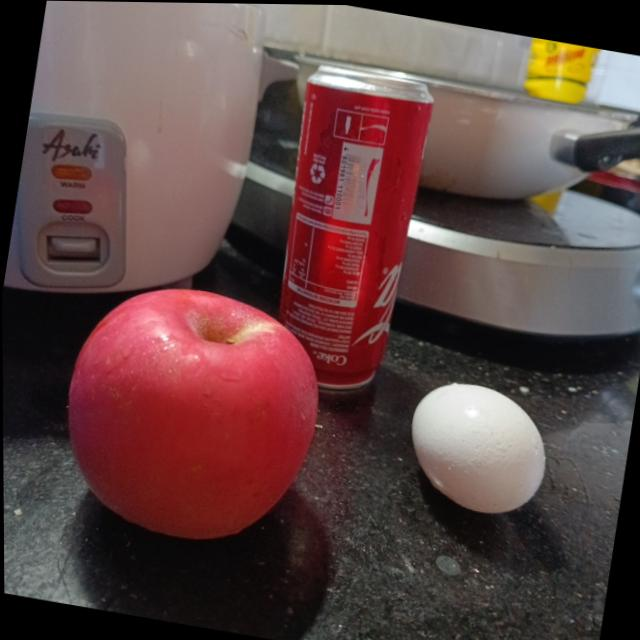apple: (47, 267, 333, 551)
coke: (257, 58, 437, 396)
egg: (401, 375, 555, 519)
